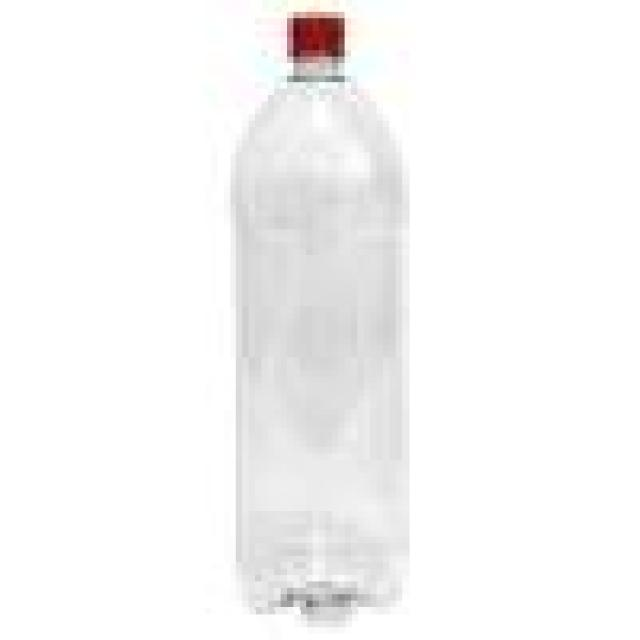bottle: (236, 10, 407, 610)
